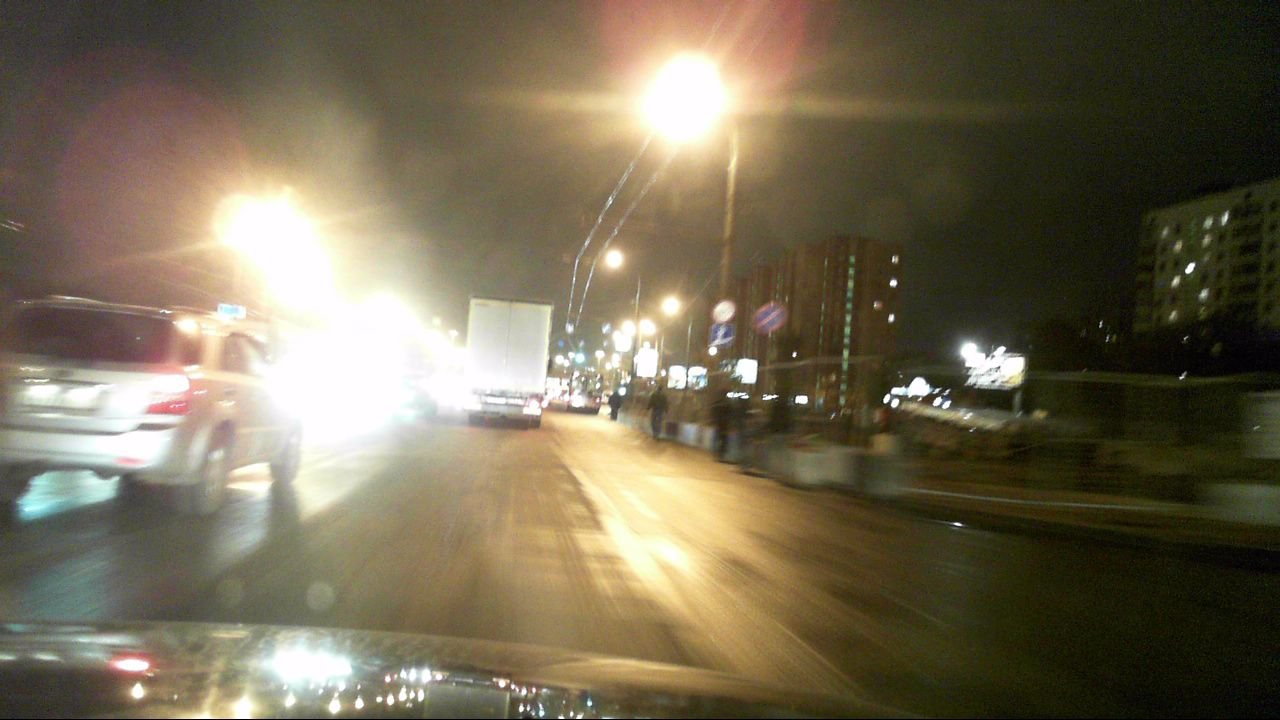No Parking: (754, 303, 784, 332)
